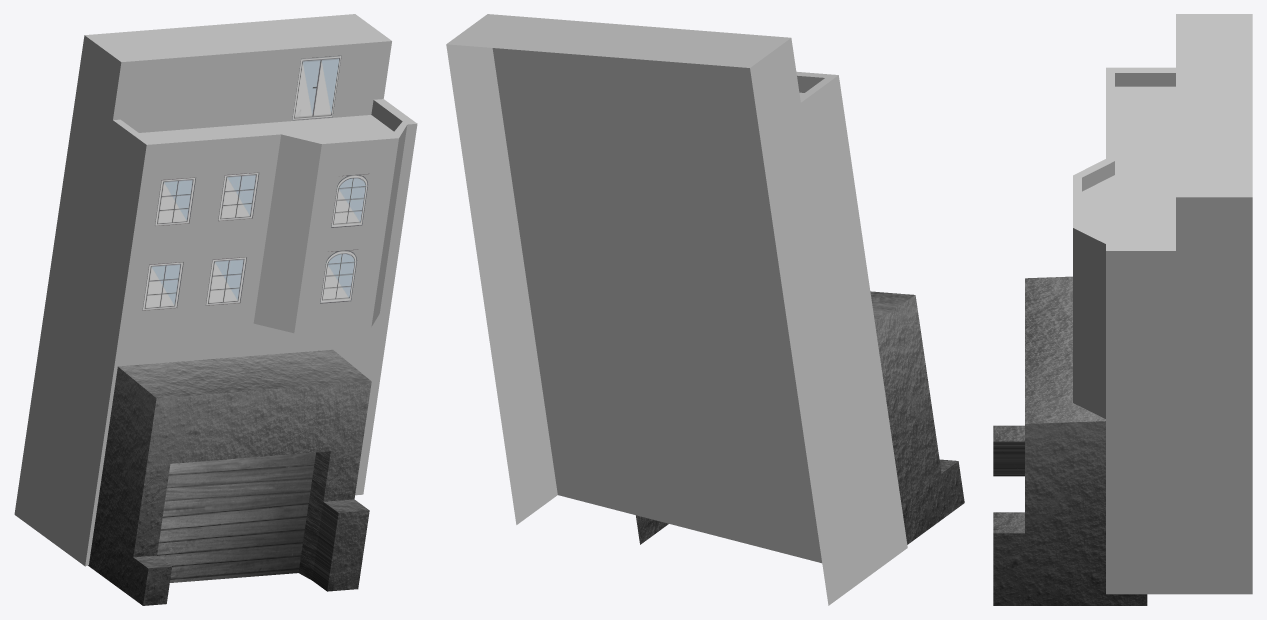
Rendered from Casa2.fbx.
3 views of the same model, side by side, from view 1: azimuth 30°, elevation 25°; view 2: azimuth 150°, elevation 25°; view 3: azimuth 270°, elevation 25° (orthographic). The views are drawn at different scales.
Visible parts, largest first — view 1: Cube; view 2: Cube; view 3: Cube.
Boxes of the visible parts, x1,y1,x2,y2 form: Cube: [14, 14, 417, 605]; Cube: [446, 14, 964, 605]; Cube: [993, 14, 1252, 605].
Size of the model in its own units: 78785 by 110165 by 50062.
